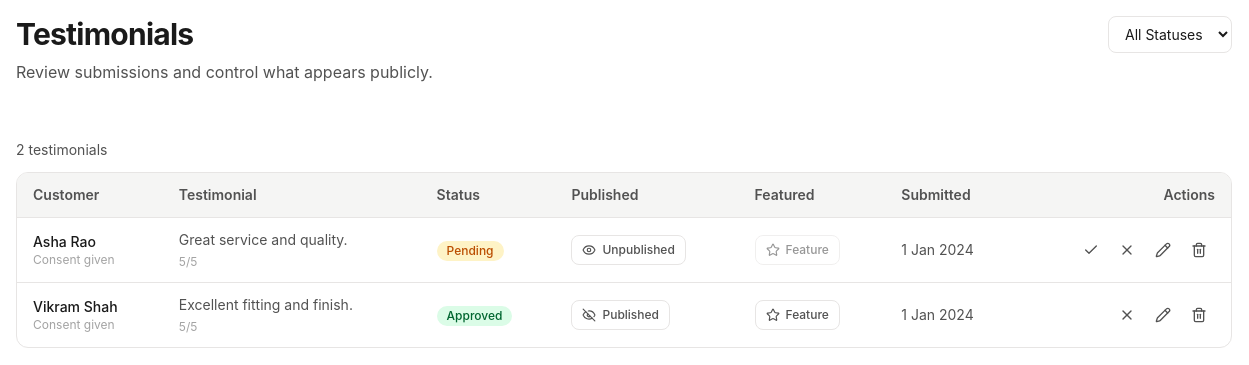
Test case: TestimonialsAdminPage › toggles publication of a testimonial
Expected: the text "Asha Rao" is shown, [33,233,96,250]
Click the button with aria-label "publish testimonial from asha rao".
click(629, 250)  # box [572,235,686,265]
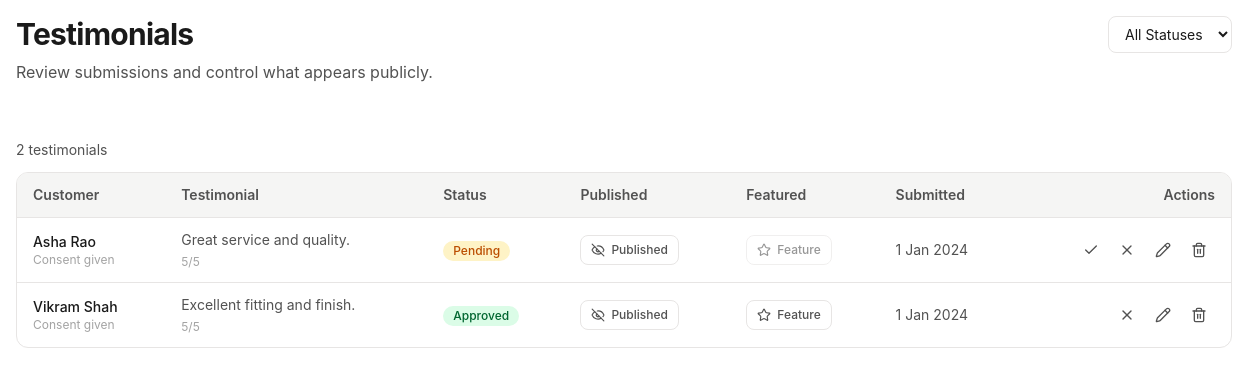
Expected: the button with aria-label "unpublish testimonial from asha rao" is shown, [580,235,679,265]
